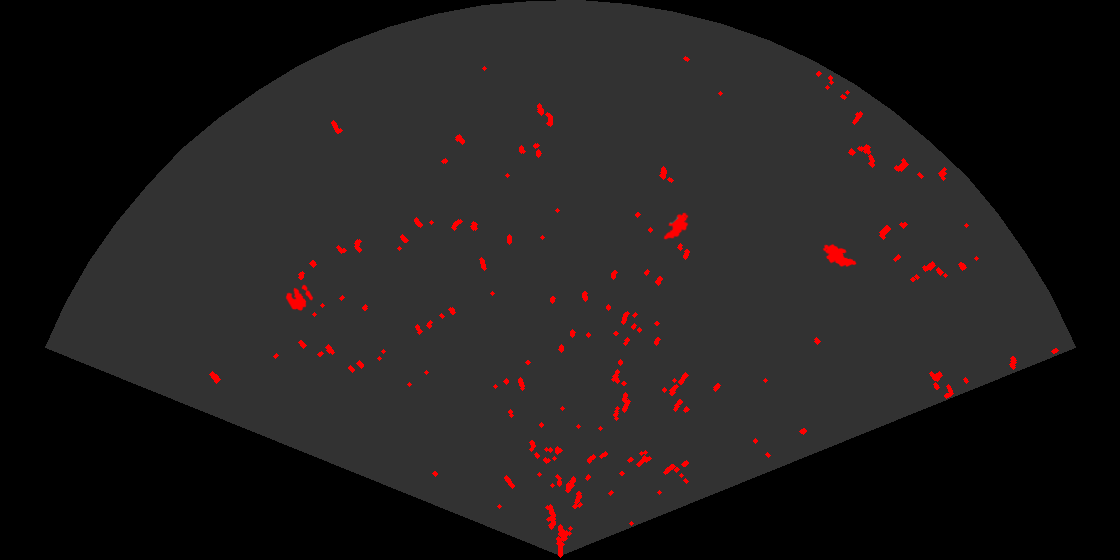AUV: (821, 242, 858, 269), (662, 211, 690, 241)
ball: (284, 283, 315, 313)
